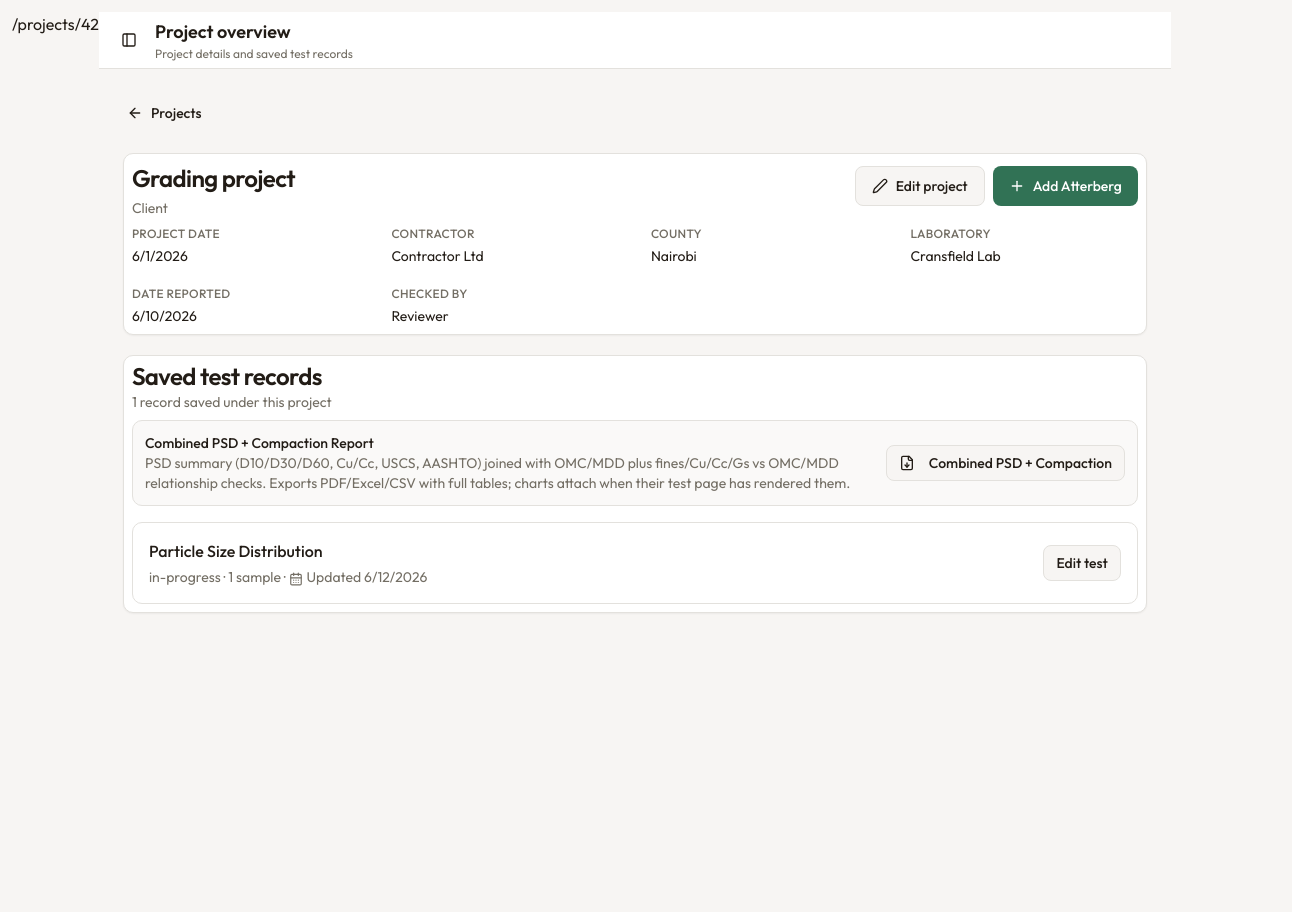
Test: ProjectOverview › updates project metadata by ID and syncs the saved values
This screenshot has width=1292, height=912.
Click the button "Edit project": coordinates (920, 186) x1=855 y1=166 x2=985 y2=206
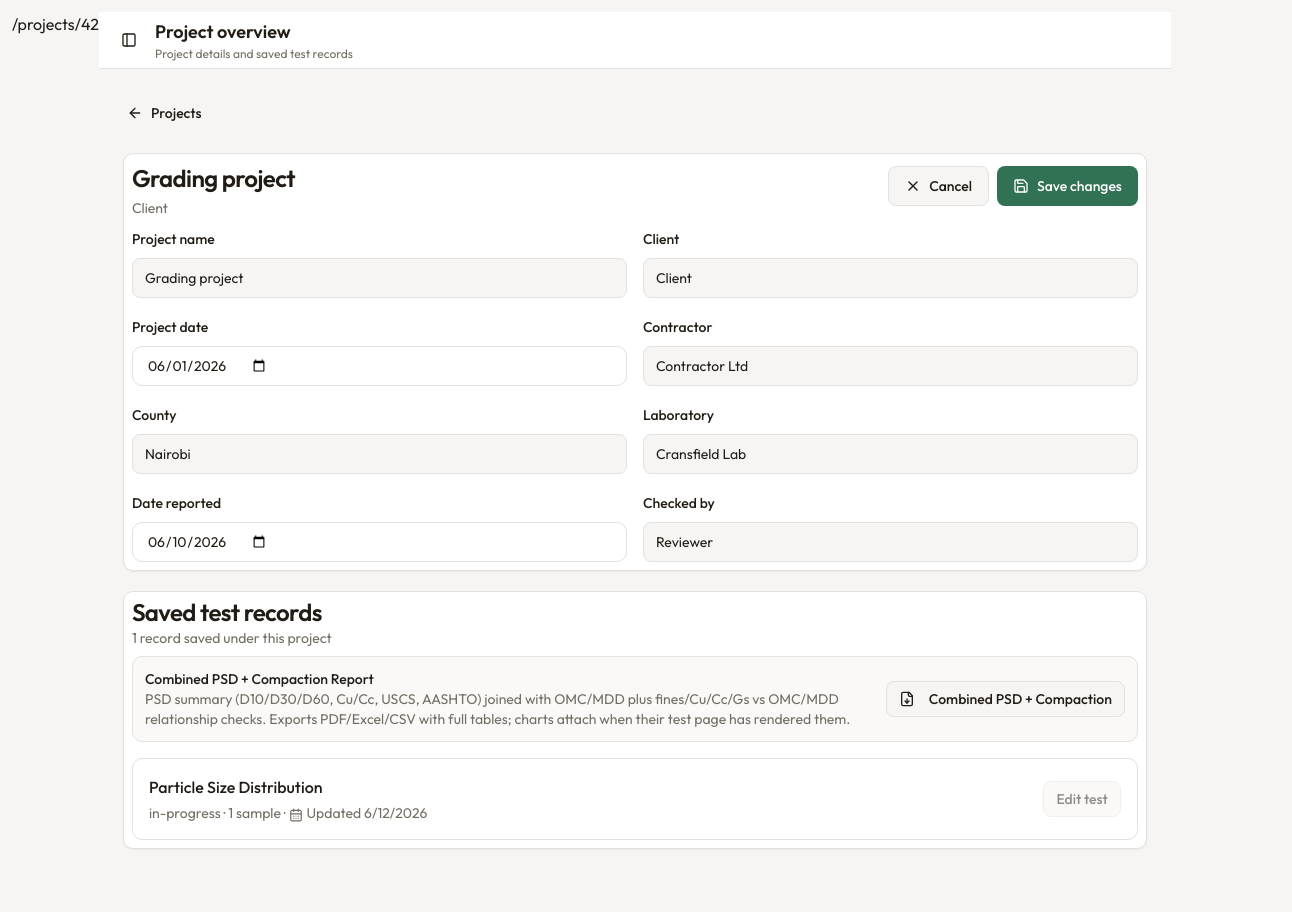
Replace the text in the field labelled "Project name" with "Updated grading project": coordinates (379, 278) x1=132 y1=258 x2=627 y2=298
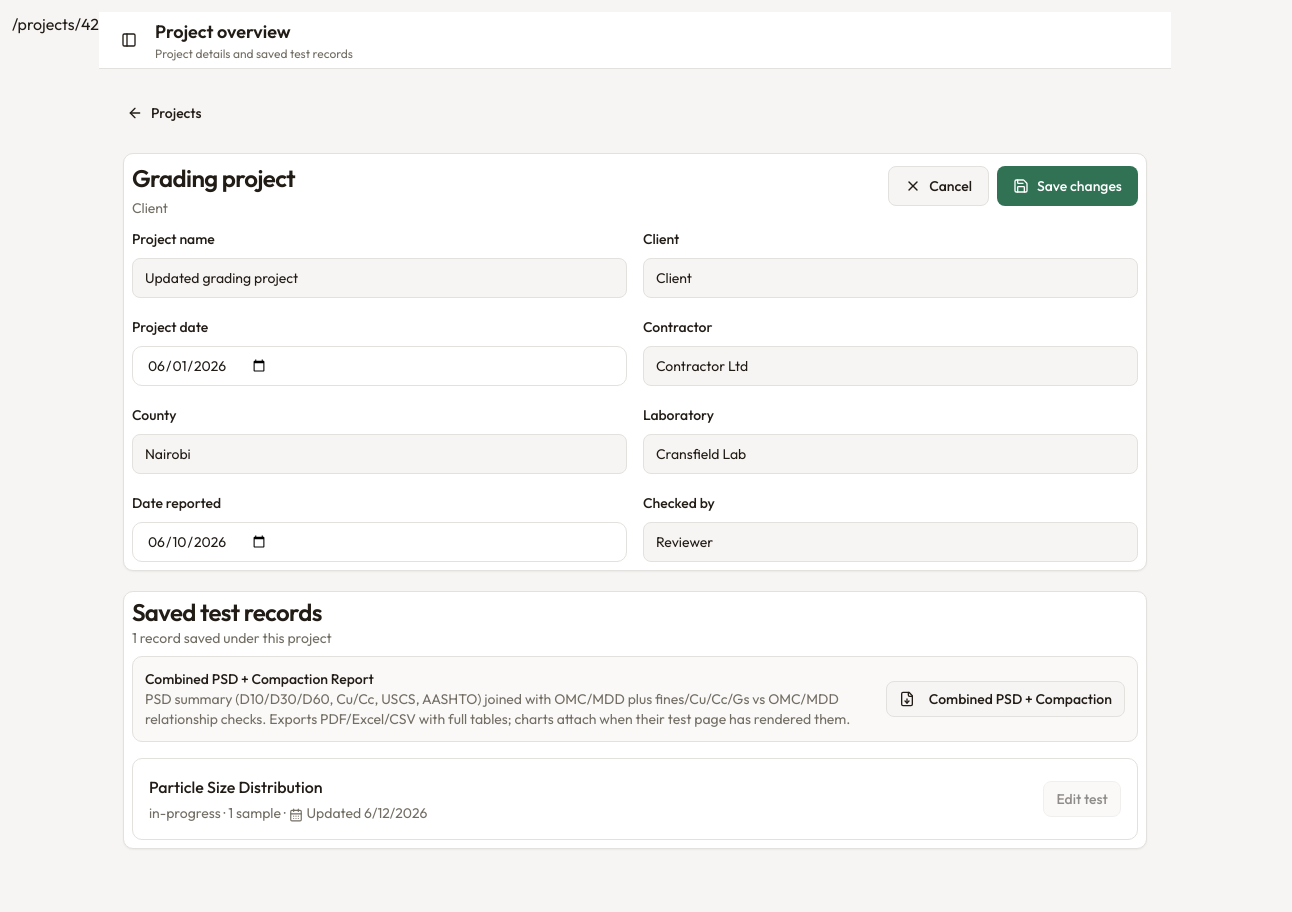
Click the button "Save changes": coordinates (1067, 186) x1=997 y1=166 x2=1138 y2=206
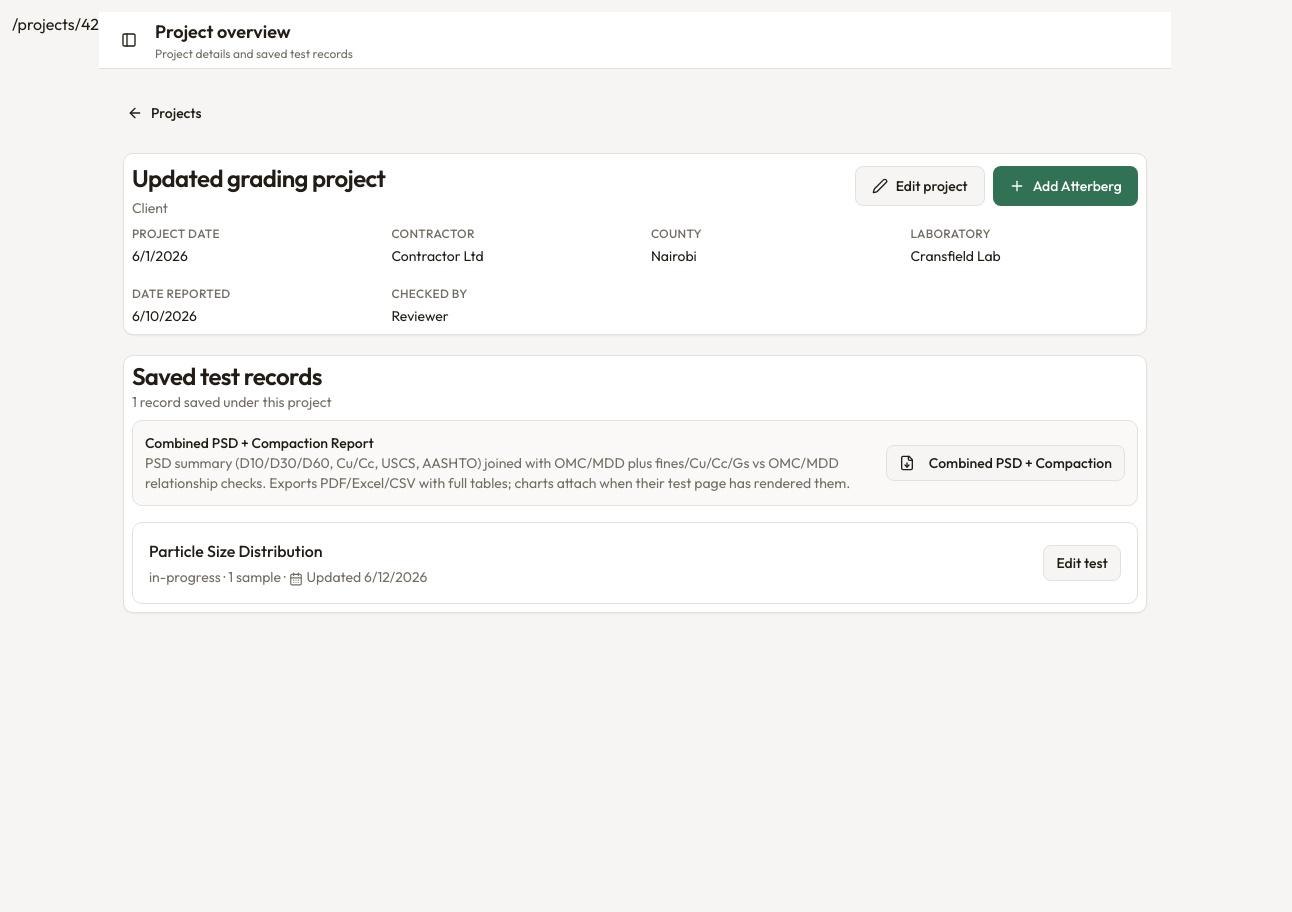
Check: the heading "Updated grading project" is shown, box x1=132 y1=162 x2=385 y2=194
